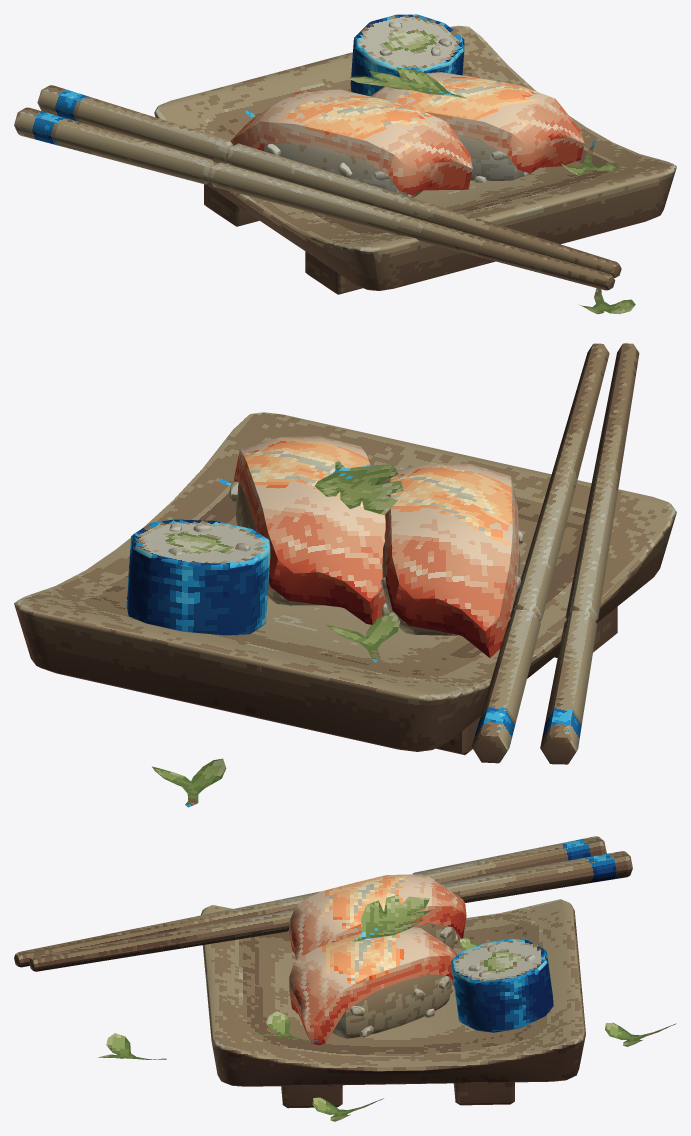
The model's file is sushi_pack.glb.
3 renders of one model, top to bottom at view 1: azimuth 30°, elevation 25°; view 2: azimuth 150°, elevation 25°; view 3: azimuth 270°, elevation 25°, orthographic. The views are drawn at different scales.
Visible parts, largest first — view 1: mesh; view 2: mesh; view 3: mesh.
Boxes of the visible parts, box(x1,y1,x2,y2) form: mesh: box(14, 14, 676, 314); mesh: box(14, 343, 676, 807); mesh: box(14, 836, 676, 1121).
Bounding box in the file's own units: 0.1777 × 0.05 × 0.2298.
Materials: 1 (1 with a texture image).
